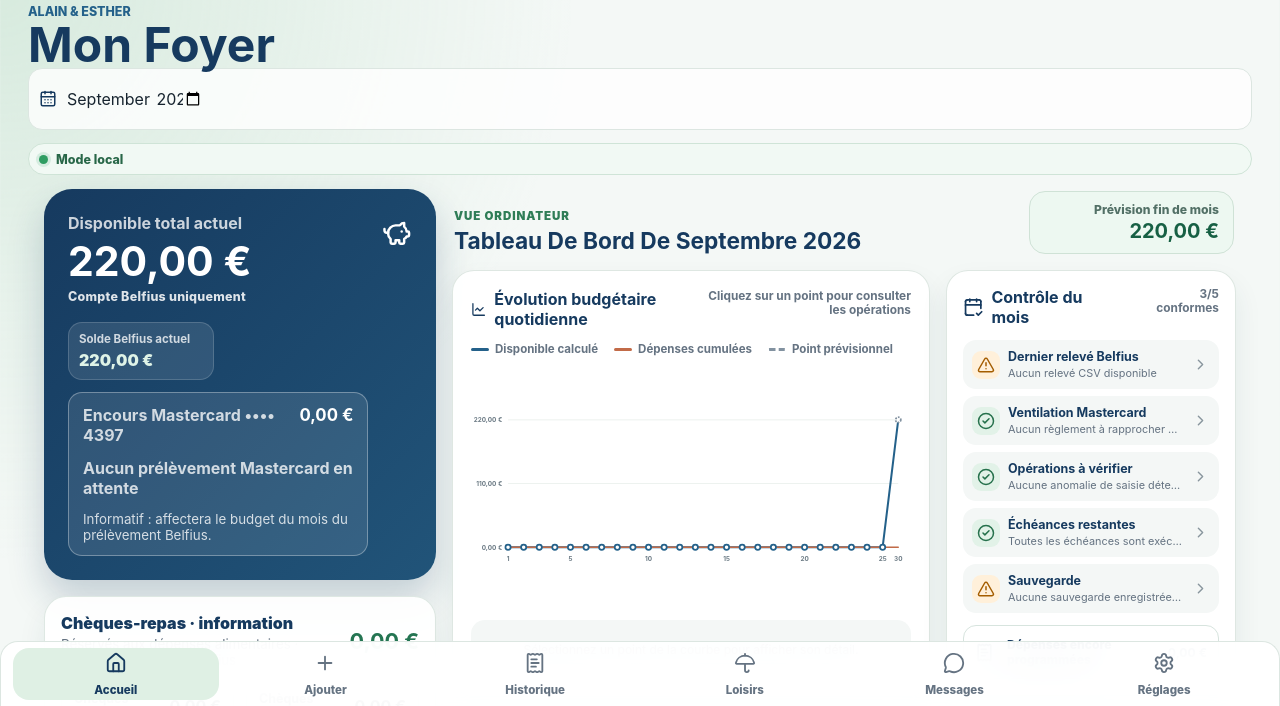
Test: formulaire des opérations › affiche immédiatement deux décimales lors de la modification
The image size is (1280, 706).
Click the button "Historique". click: point(535, 674)
box: [432,648,638,700]
(page scrolled)
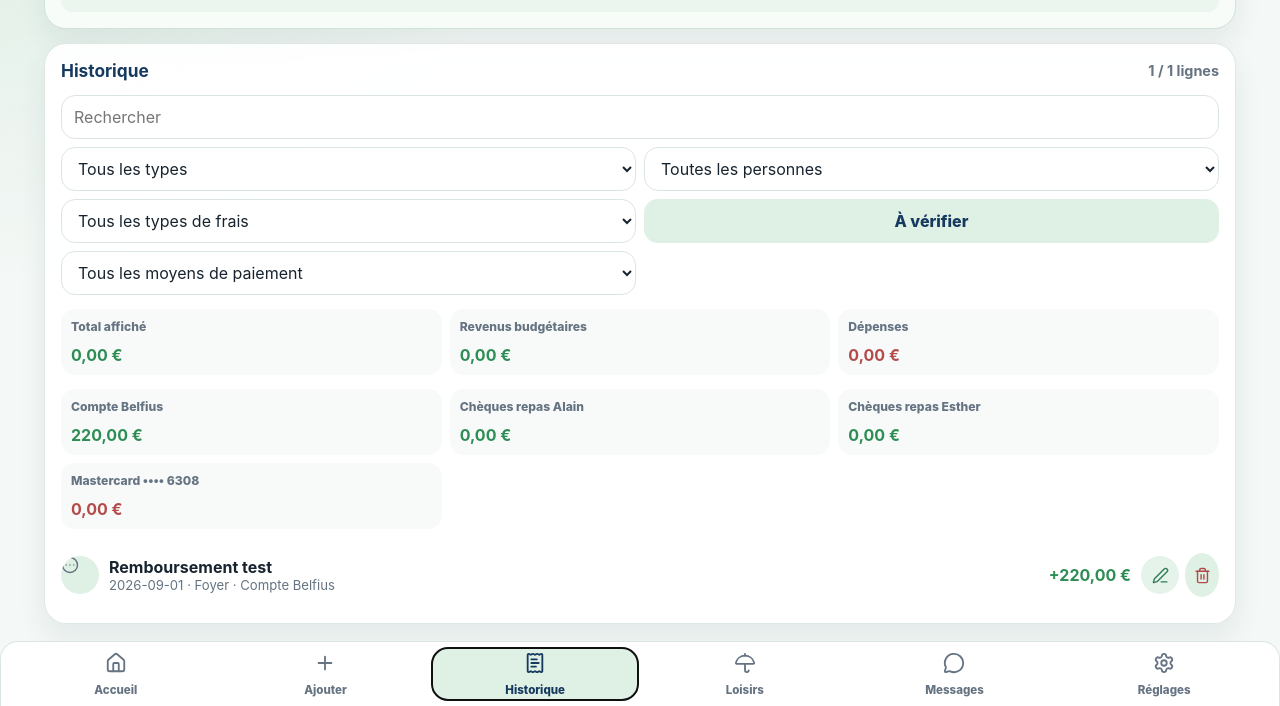
Click the button named "Modifier". click: point(1160, 575)
box: [1141,556,1179,594]
(page scrolled)
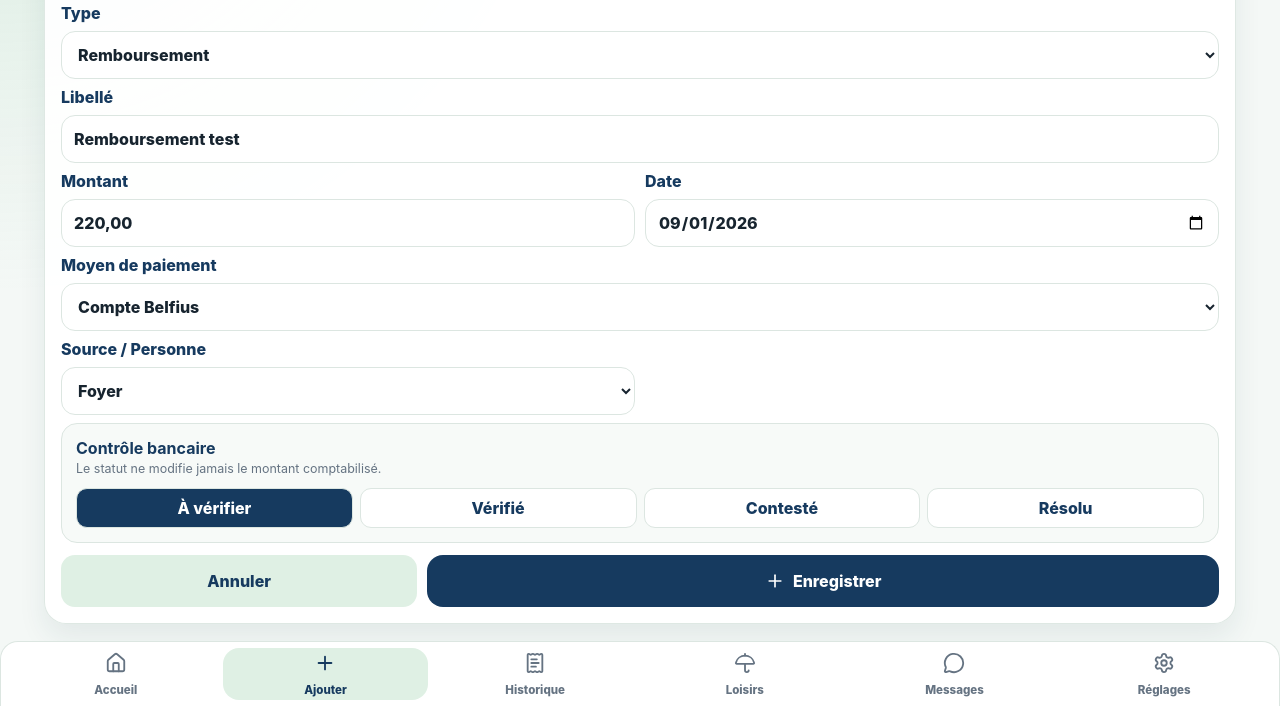
Result: the field labelled "Montant" holds "220,00" at [61,199,635,247]
